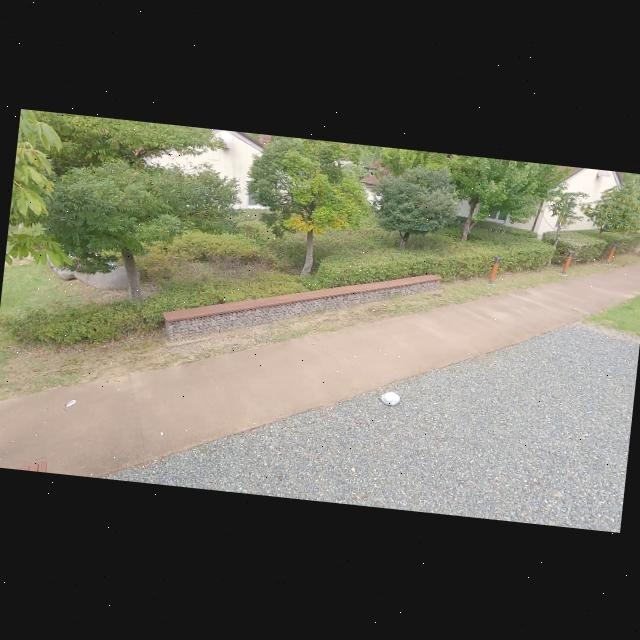trash: (375, 388, 401, 409)
